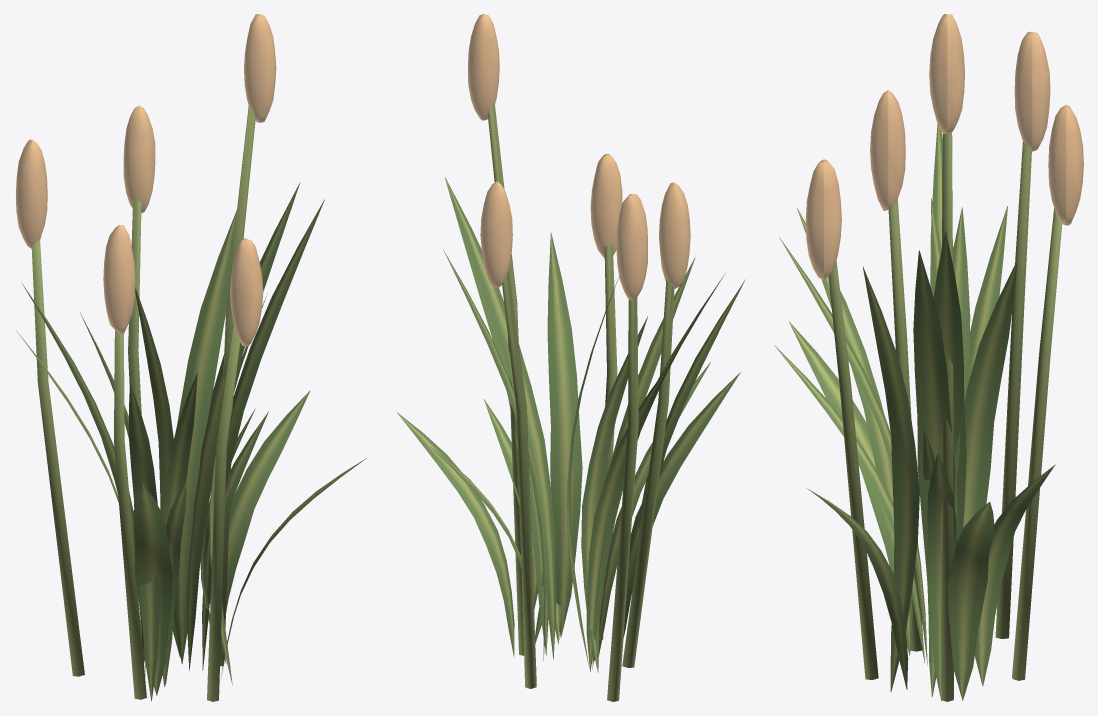
File: reed.glb
3 views of the same model, side by side, from view 1: azimuth 30°, elevation 25°; view 2: azimuth 150°, elevation 25°; view 3: azimuth 270°, elevation 25° (orthographic). The views are drawn at different scales.
Parts seen in each view (by area): view 1: foliage, stem, wax; view 2: foliage, stem, wax; view 3: foliage, stem, wax.
Part boxes in pixels (box(x1,y1,x2,y2)): foliage: box(16, 182, 366, 701); stem: box(31, 105, 255, 701); wax: box(15, 14, 276, 346); foliage: box(397, 177, 745, 672); stem: box(487, 104, 674, 701); wax: box(468, 14, 690, 300); foliage: box(774, 124, 1055, 701); stem: box(828, 132, 1062, 701); wax: box(805, 14, 1083, 279).
Bounding box in the file's own units: 1.27 × 2.49 × 0.9895.
